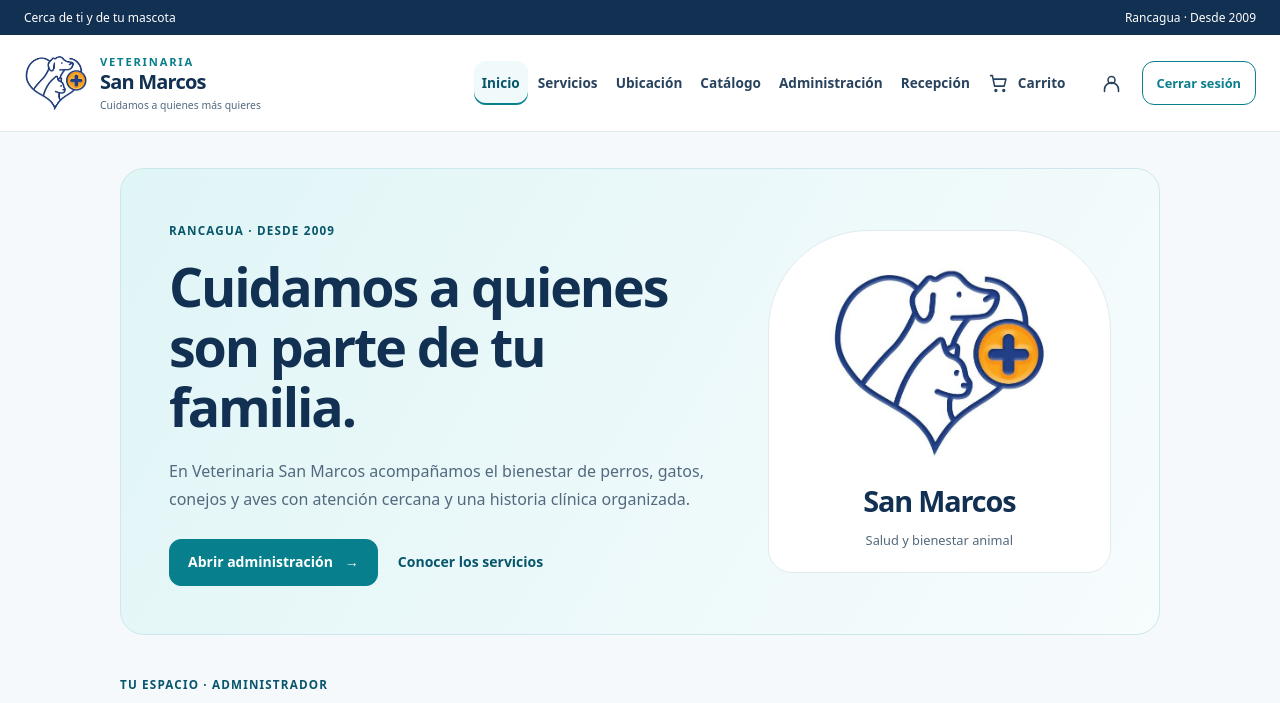
Test: Accesos de carrito y perfil en el navbar › deja el carrito al final y mueve el perfil al nombre de Administración
Expected: the link "Mi perfil" is not shown
Click the link named "Ver perfil de Administración" at (1112, 83), box 1101,73 -> 1122,94
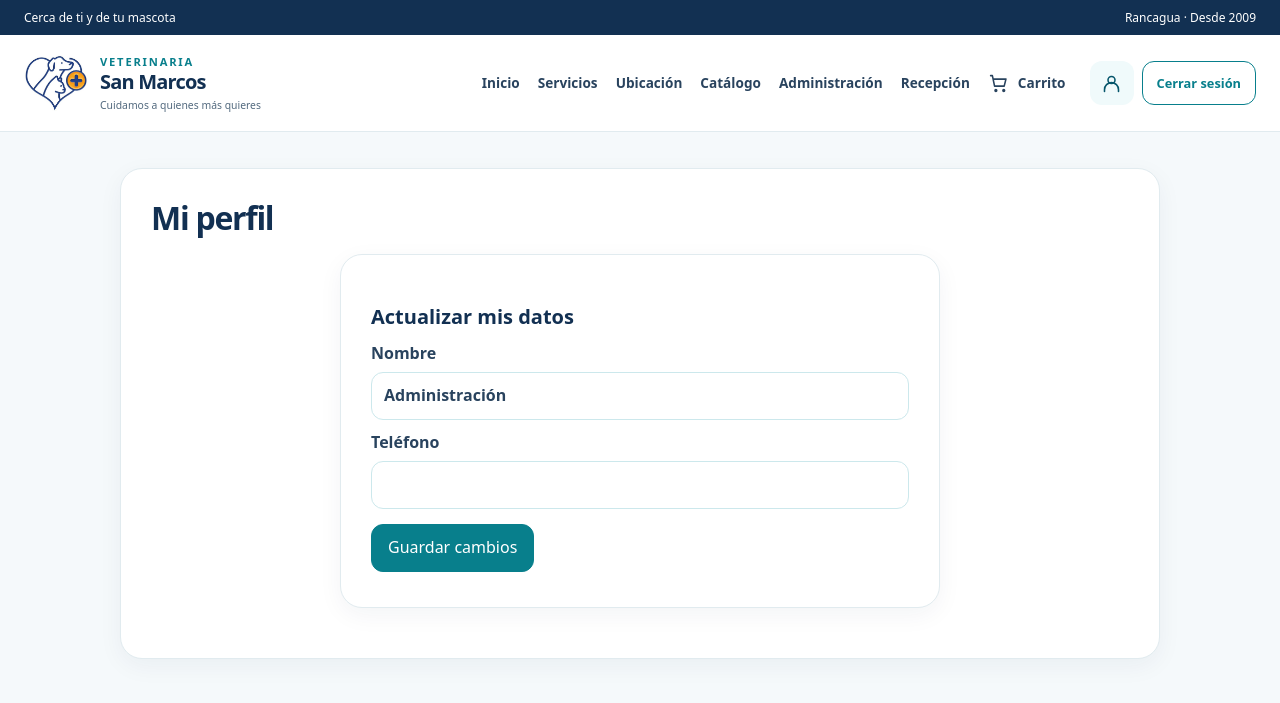
Now the heading "Mi perfil" is shown, box 151,196 -> 273,239
